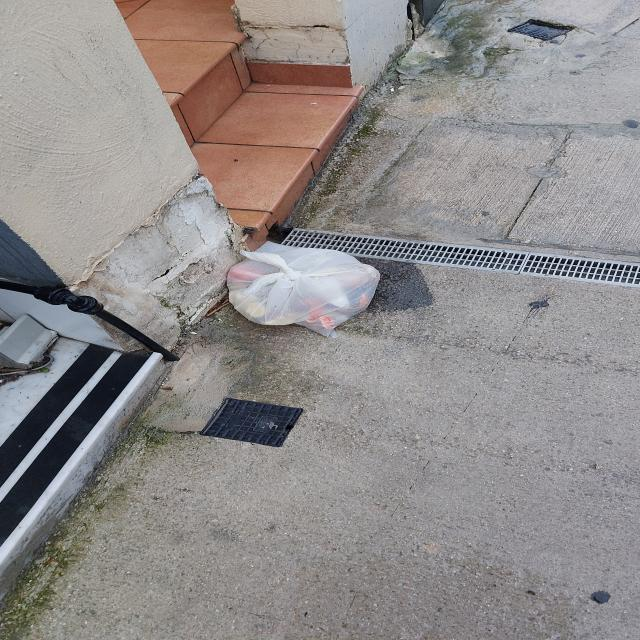Organic Waste -White Bag-: (218, 237, 388, 335)
